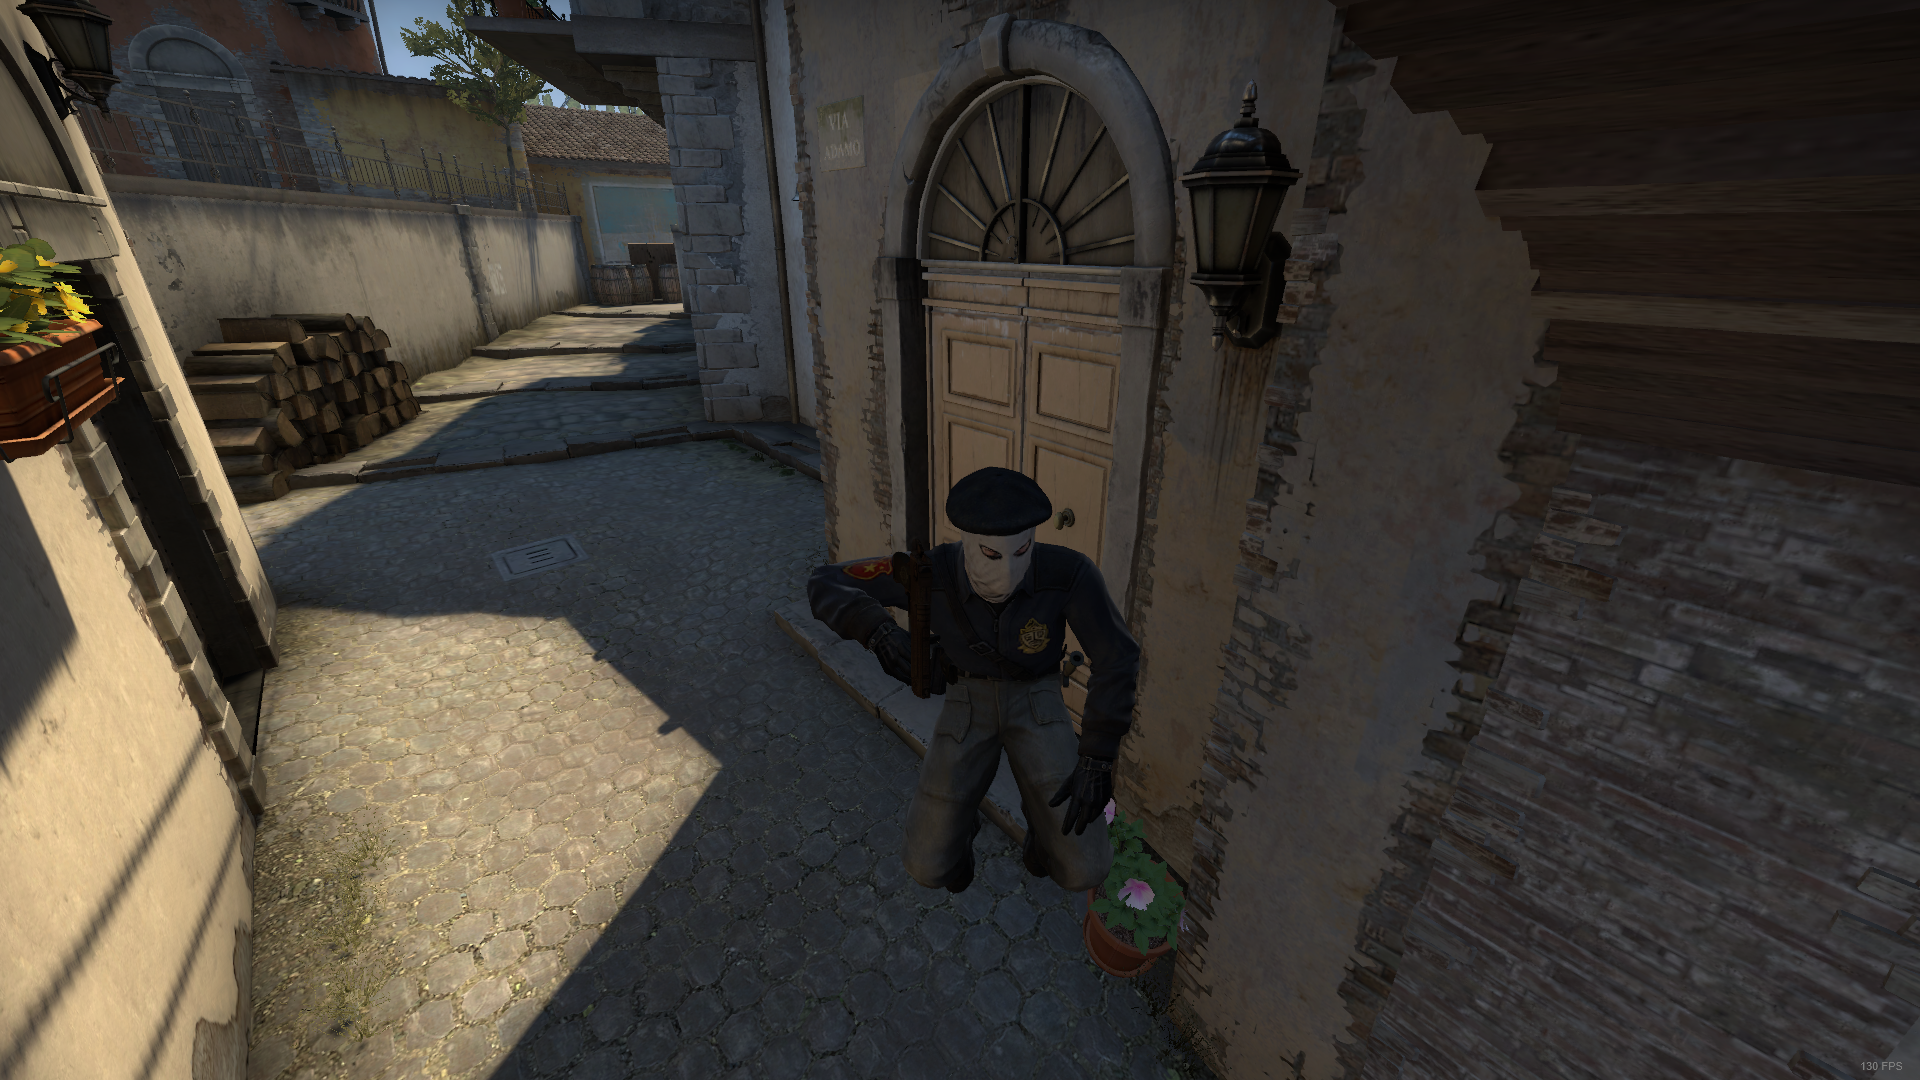t: (796, 463, 1147, 905)
